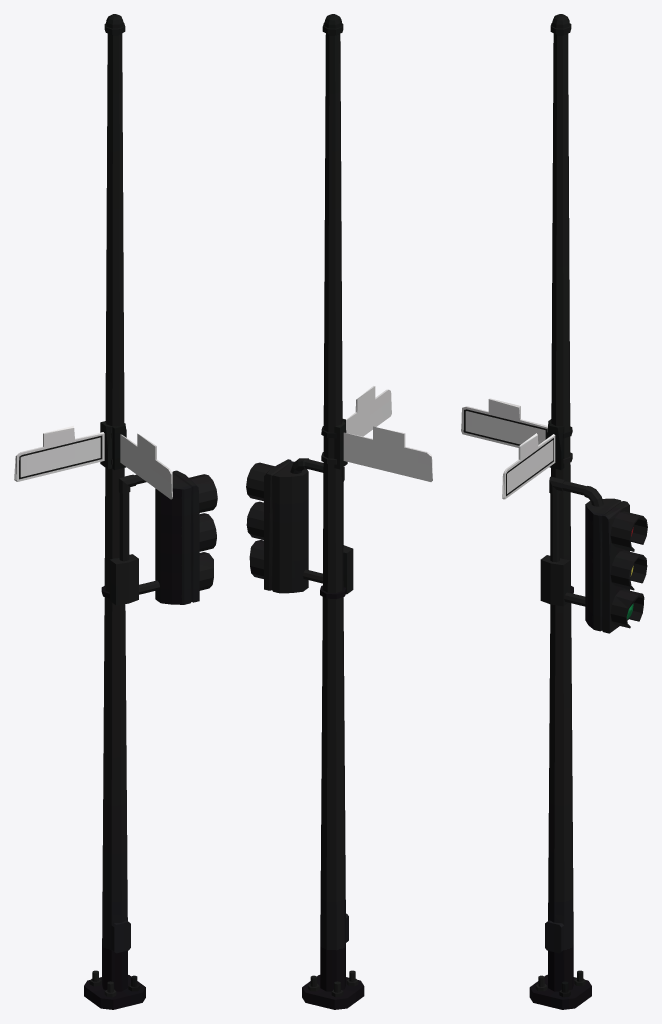
The model's file is LightPole05.fbx.
The picture shows the model from 3 angles, left to right: view 1: azimuth 30°, elevation 25°; view 2: azimuth 150°, elevation 25°; view 3: azimuth 330°, elevation 25°; orthographic projection.
Visible parts, largest first — view 1: SM_City_LightPole_01f.mo; view 2: SM_City_LightPole_01f.mo; view 3: SM_City_LightPole_01f.mo.
Part boxes in pixels (x1=…): SM_City_LightPole_01f.mo: x1=14, y1=14, x2=217, y2=1009; SM_City_LightPole_01f.mo: x1=246, y1=14, x2=432, y2=1009; SM_City_LightPole_01f.mo: x1=461, y1=14, x2=647, y2=1009.
Bounding box in the file's own units: 164 × 824 × 108.
